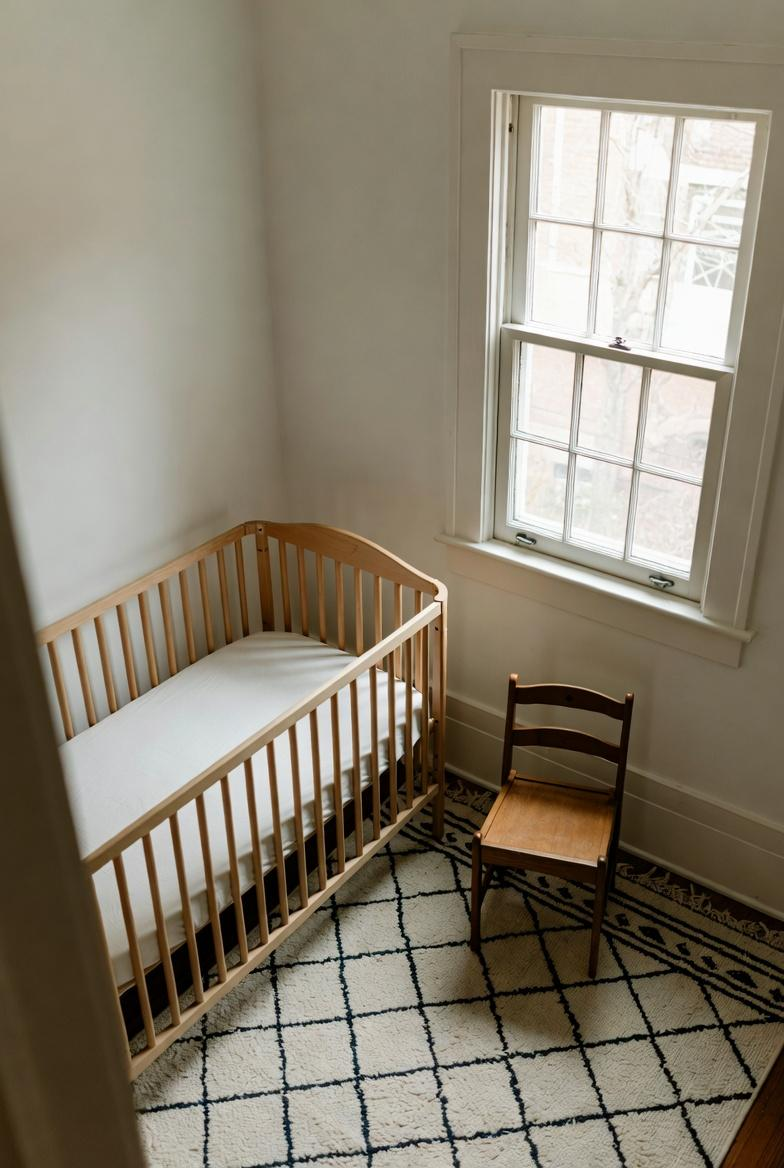crib: (37, 502, 455, 1088)
